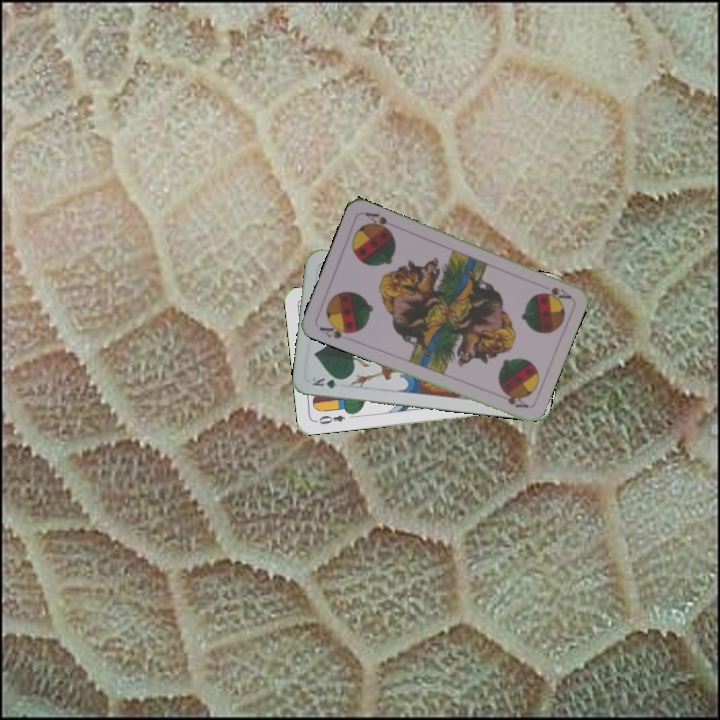EO: (311, 411, 347, 427)
GK: (308, 373, 348, 391)
SA: (315, 319, 356, 341), (539, 283, 573, 302)
